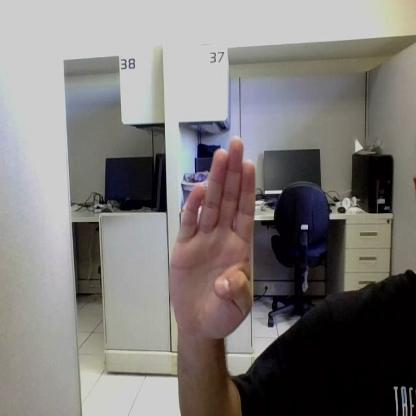B: (169, 135, 254, 331)
